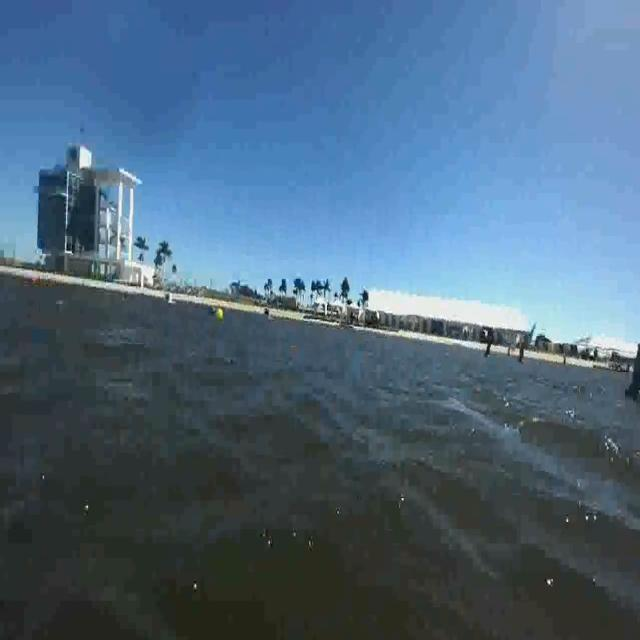green-column-buoy: (624, 333, 640, 399)
yellow-buoy: (217, 308, 224, 322)
